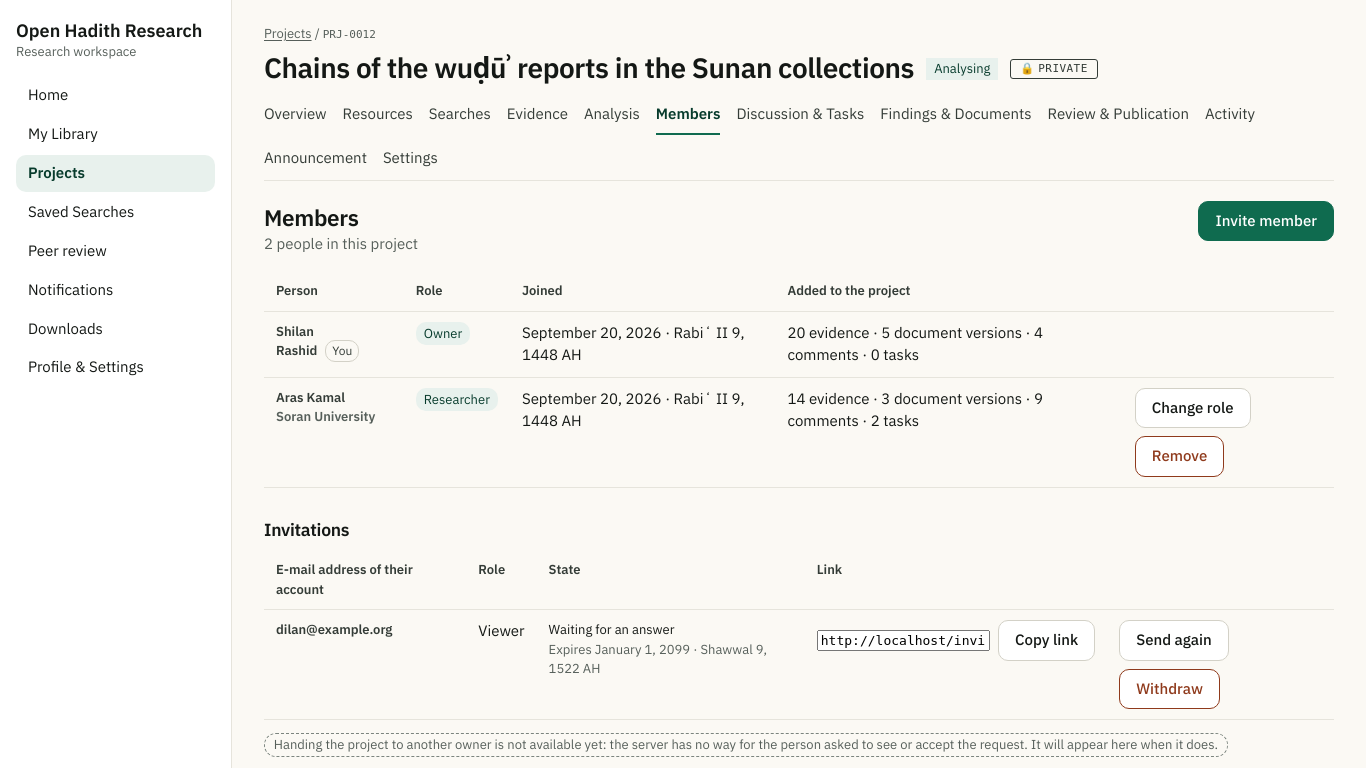
Scenario: Members: inviting › sends the e-mail and role with the 14-day expiry, then hands over the link because no e-mail is sent
Click the button "Invite member": point(1266, 221) [1198, 201, 1334, 241]
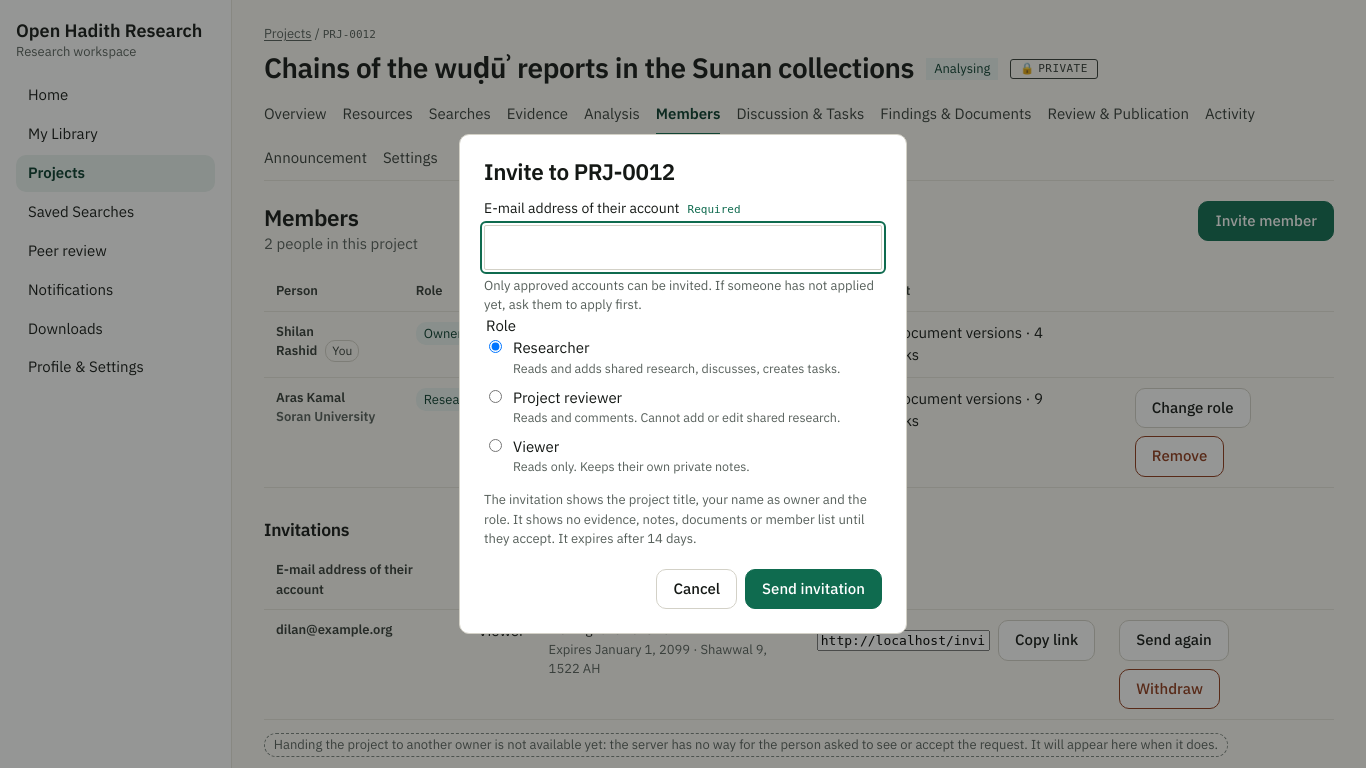
In the field labelled "E-mail address": point(683, 248) [484, 225, 882, 270], type "new@example.org"
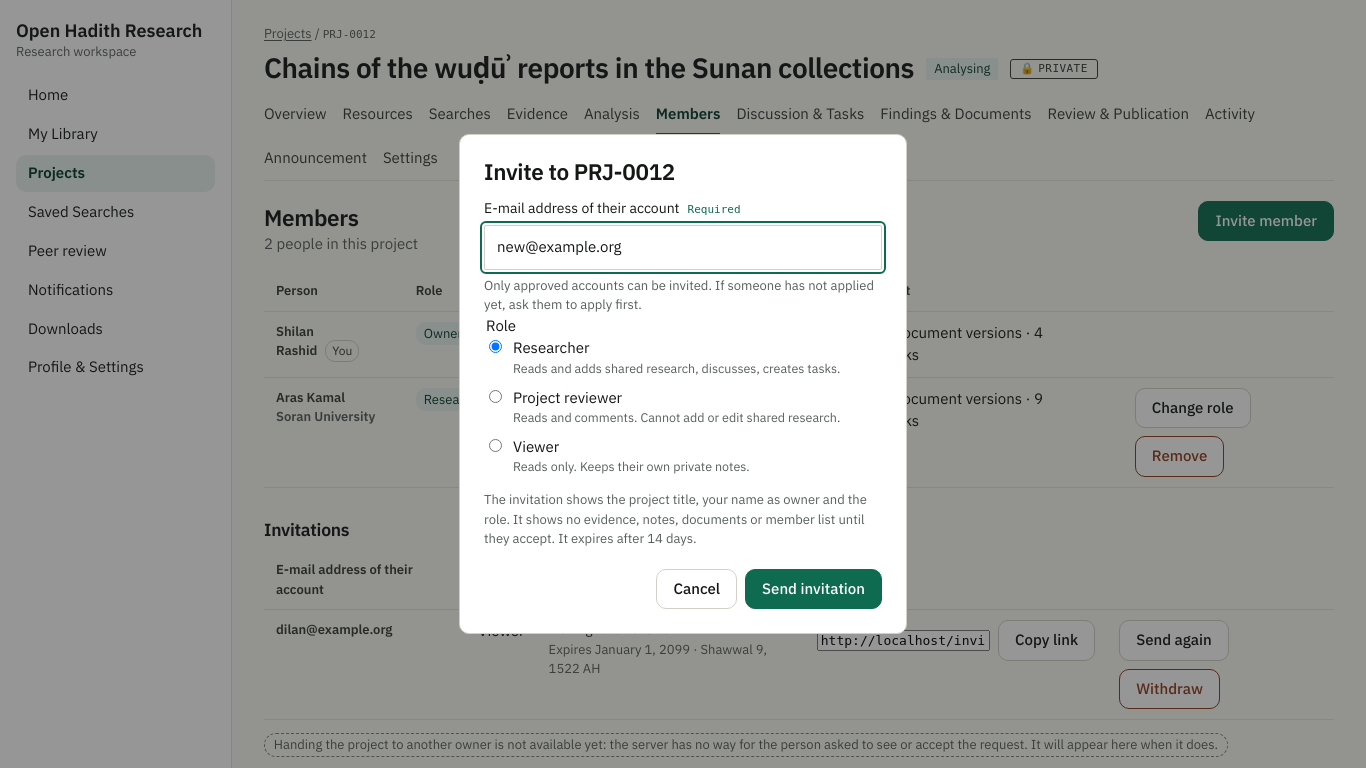
Click the radio button labelled "Project reviewer": point(496, 396) [489, 390, 502, 403]
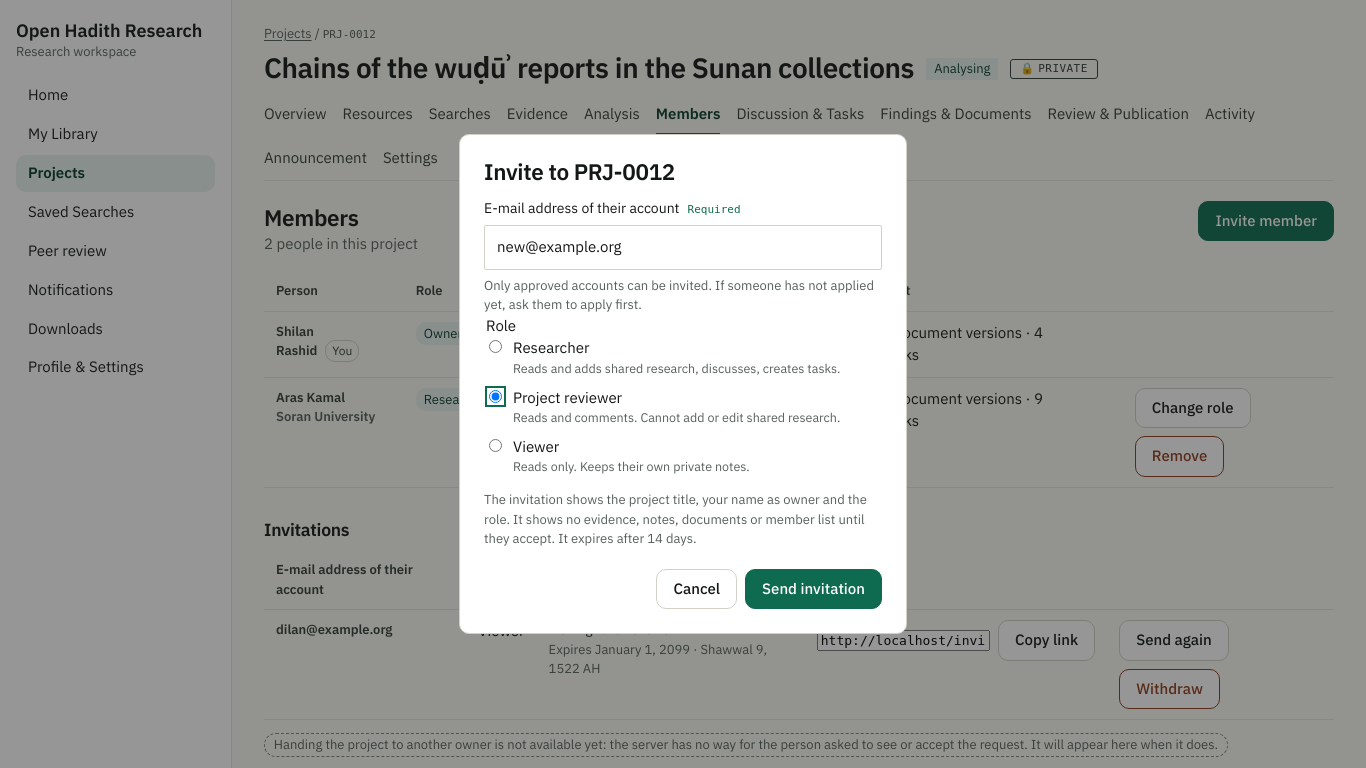
Click the button "Send invitation": point(814, 589) [745, 569, 882, 609]
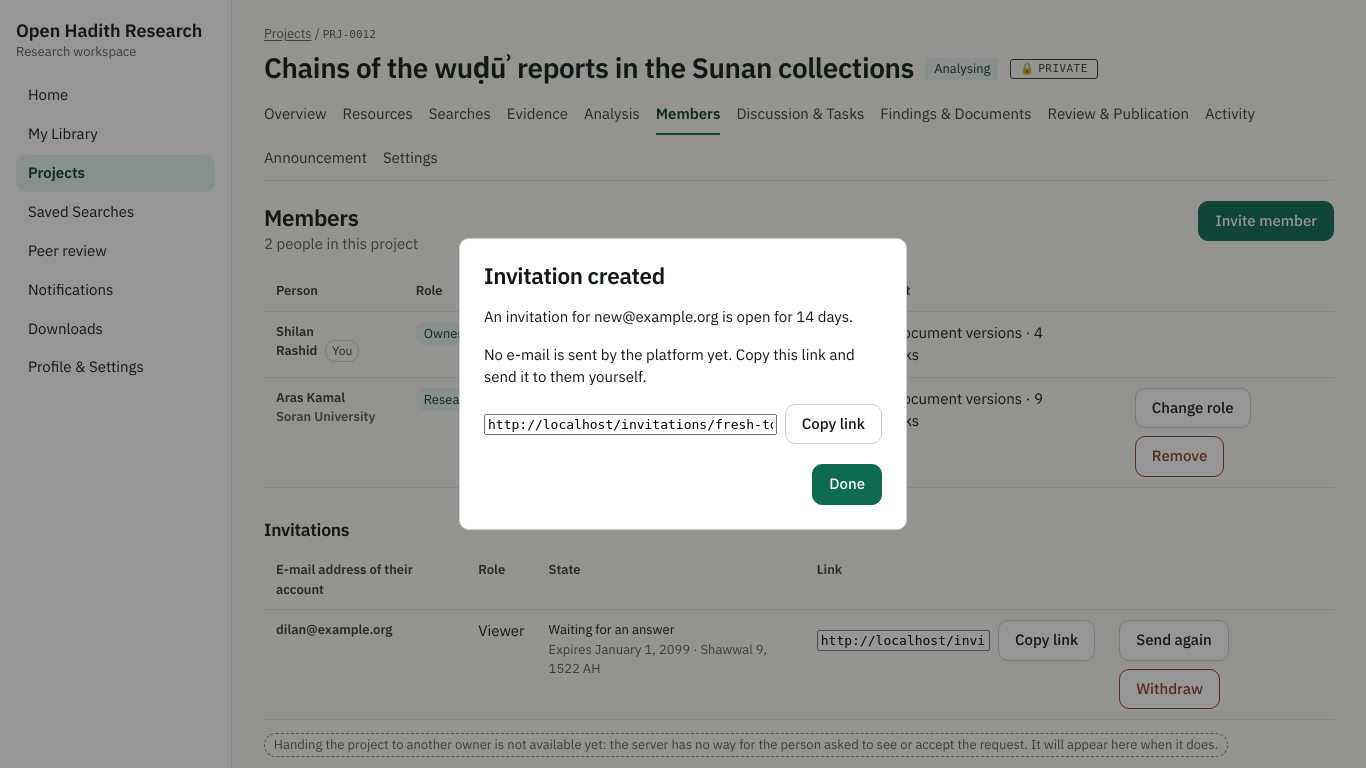
Check: the text "No e-mail is sent by the platform yet" is shown, box [484, 344, 855, 388]
